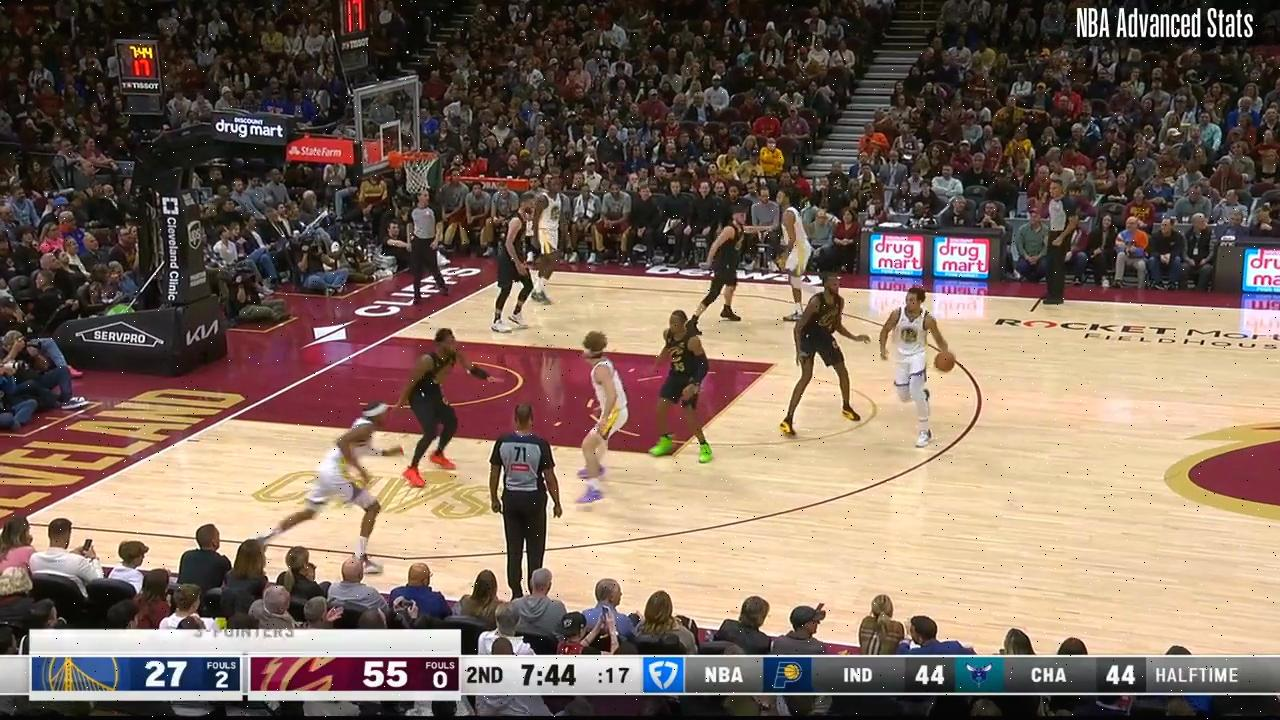basketball: (934, 349, 956, 375)
